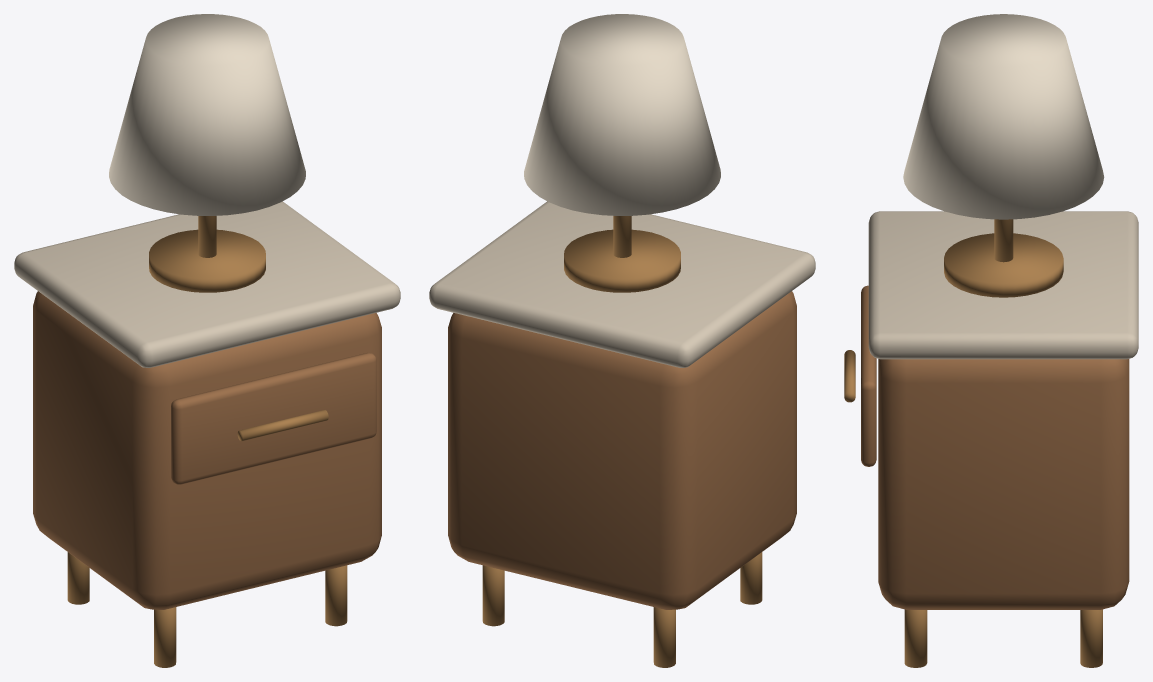
Rendered from project-warm-minimal-bedside-table.glb.
The picture shows the model from 3 angles, left to right: view 1: azimuth 30°, elevation 25°; view 2: azimuth 150°, elevation 25°; view 3: azimuth 270°, elevation 25°; orthographic projection.
Visible parts, largest first — view 1: cabinet, stone-top, linen-shade, drawer-face, lamp-base, leg-1, leg-2, drawer-pull, leg-3, lamp-stem; view 2: cabinet, stone-top, linen-shade, lamp-base, leg-3, leg-4, leg-1, lamp-stem; view 3: cabinet, stone-top, linen-shade, lamp-base, drawer-face, leg-2, leg-4, lamp-stem, drawer-pull.
Part boxes in pixels (x1,y1,x2,y2): cabinet: (33,291,381,609); stone-top: (14,201,400,367); linen-shade: (109,14,305,215); drawer-face: (171,353,376,484); lamp-base: (149,229,265,292); leg-1: (154,607,176,667); leg-2: (325,565,347,626); drawer-pull: (237,409,328,441); leg-3: (67,552,89,604); lamp-stem: (198,216,216,257); cabinet: (448,291,796,609); stone-top: (429,201,815,367); linen-shade: (524,14,720,215); lamp-base: (564,229,680,292); leg-3: (653,607,675,667); leg-4: (482,565,504,626); leg-1: (740,552,762,604); lamp-stem: (613,216,631,257); cabinet: (878,359,1129,609); stone-top: (868,211,1138,359); linen-shade: (903,14,1104,219); lamp-base: (944,233,1063,297); drawer-face: (861,285,876,466); leg-2: (904,609,927,667); leg-4: (1080,609,1102,667); lamp-stem: (994,219,1013,262); drawer-pull: (844,350,855,402).
Bounding box in the file's own units: 0.49 × 1.02 × 0.4689.
